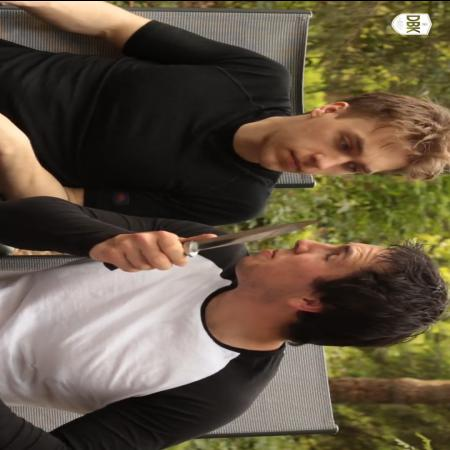long weapon: (98, 212, 332, 276)
